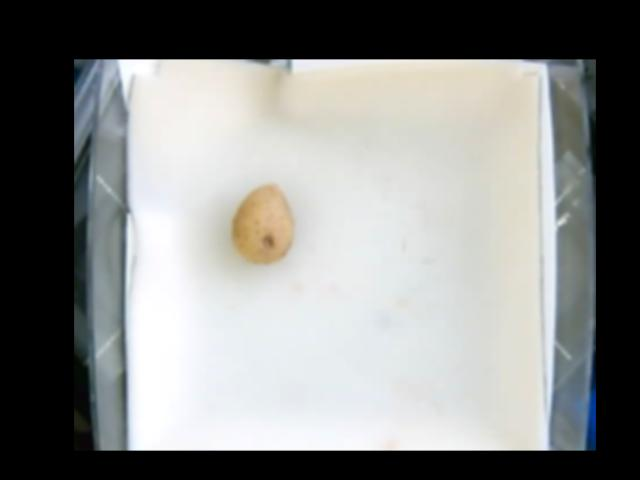Potato: (233, 182, 292, 263)
